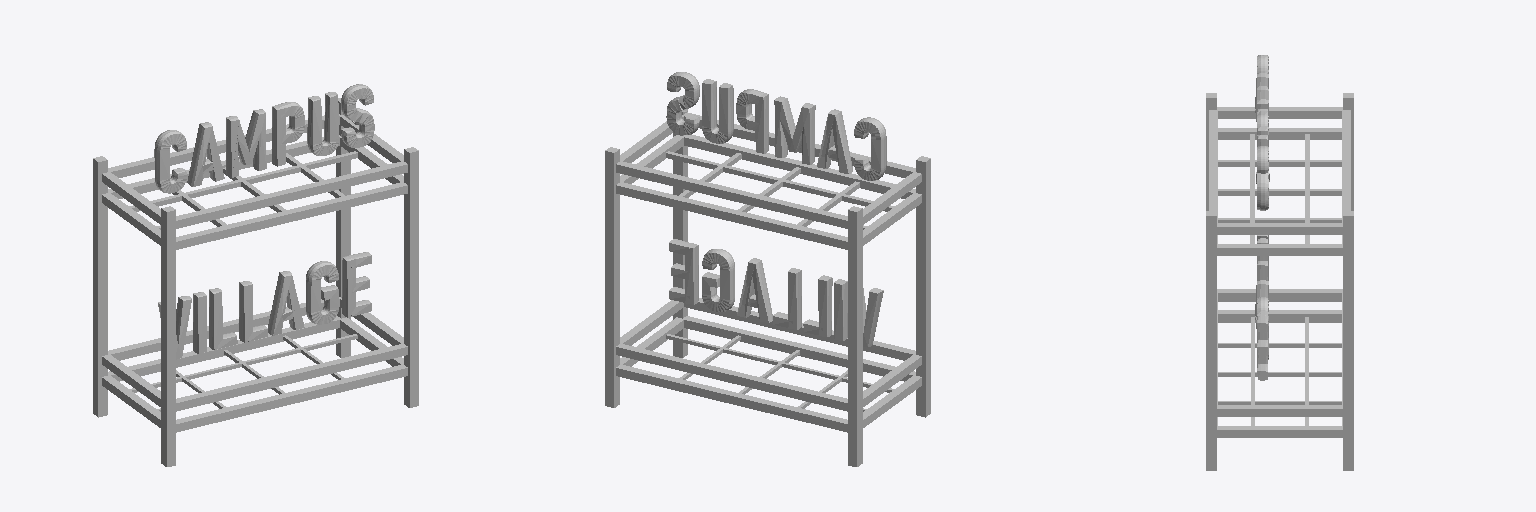
3 views of the same model, side by side, from view 1: azimuth 30°, elevation 25°; view 2: azimuth 150°, elevation 25°; view 3: azimuth 270°, elevation 25° (orthographic).
Parts seen in each view (by area): view 1: bed_HULL_geo, text4, bed_FULL_geo; view 2: bed_HULL_geo, text4, bed_FULL_geo; view 3: bed_HULL_geo, text4, bed_FULL_geo.
Part boxes in pixels (bbox=[...]): bed_HULL_geo: bbox=[93, 98, 418, 466]; text4: bbox=[154, 84, 374, 359]; bed_FULL_geo: bbox=[130, 334, 357, 411]; bed_HULL_geo: bbox=[605, 111, 930, 466]; text4: bbox=[666, 72, 886, 347]; bed_FULL_geo: bbox=[666, 334, 893, 411]; bed_HULL_geo: bbox=[1206, 93, 1353, 470]; text4: bbox=[1255, 55, 1269, 380]; bed_FULL_geo: bbox=[1218, 317, 1341, 425].
Size of the model in its own units: 21.31 by 24.85 by 10.81.